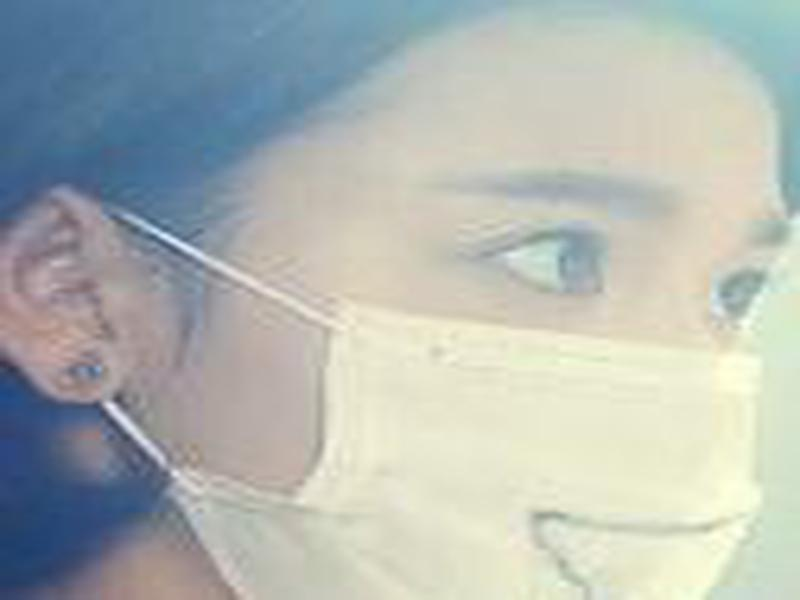with_mask: (1, 4, 795, 592)
